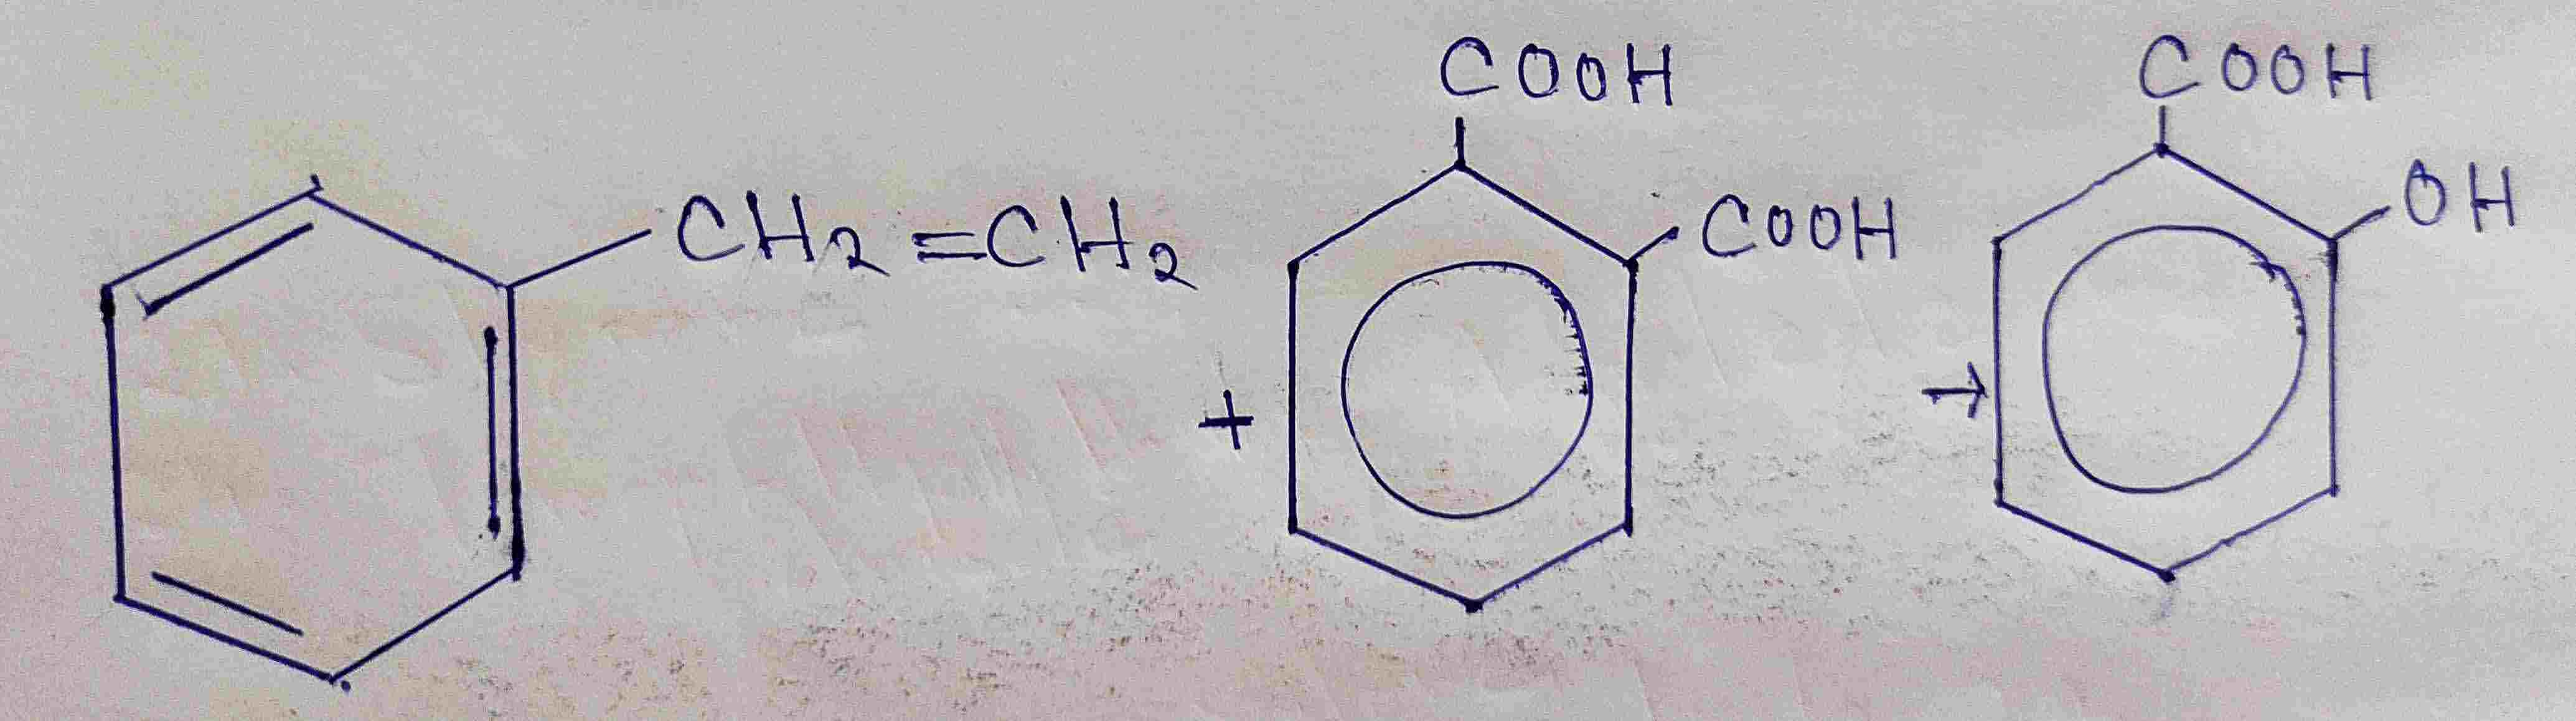Phthalic Acid(C8H6O4): (1281, 26, 1906, 622)
Salicylic Acid(C7H6O3): (1989, 26, 2520, 585)
Styrene(C8H8): (97, 168, 1191, 690)
